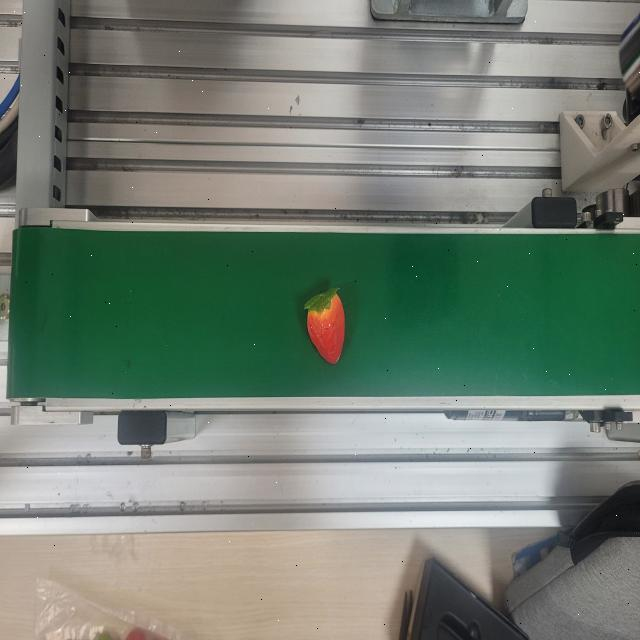Small Unripe Strawberry: (303, 284, 347, 366)
conveyor: (8, 205, 640, 402)
